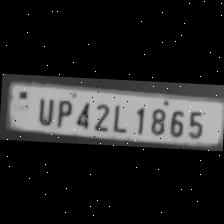1: (127, 102, 146, 135)
2: (89, 99, 111, 132)
4: (70, 98, 92, 130)
5: (182, 106, 205, 138)
6: (166, 106, 186, 138)
8: (145, 103, 168, 136)
L: (109, 100, 129, 133)
P: (52, 96, 72, 127)
U: (32, 94, 55, 127)
